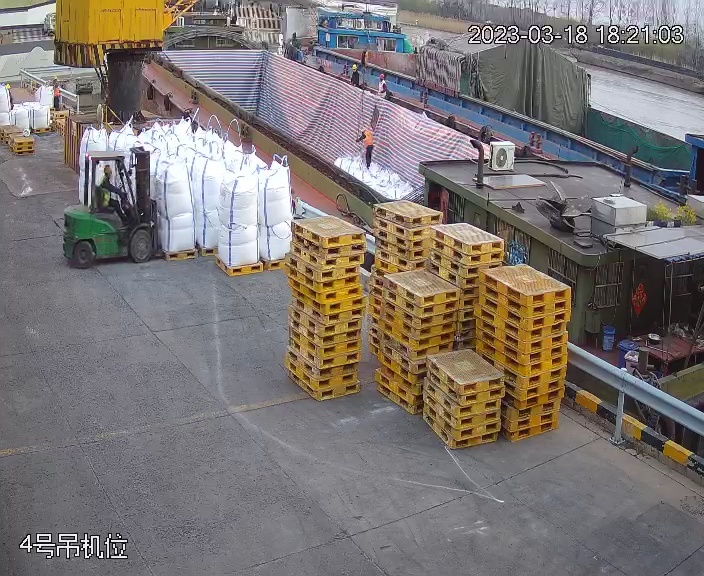head: (98, 164, 117, 190), (379, 73, 386, 86), (351, 63, 359, 74), (54, 77, 60, 86)
helmet: (102, 164, 113, 176), (351, 63, 358, 70), (6, 83, 12, 89), (379, 73, 384, 80), (54, 77, 58, 79)
people: (95, 163, 132, 222), (362, 124, 374, 168), (52, 75, 62, 110), (350, 62, 361, 88), (379, 71, 389, 97)
